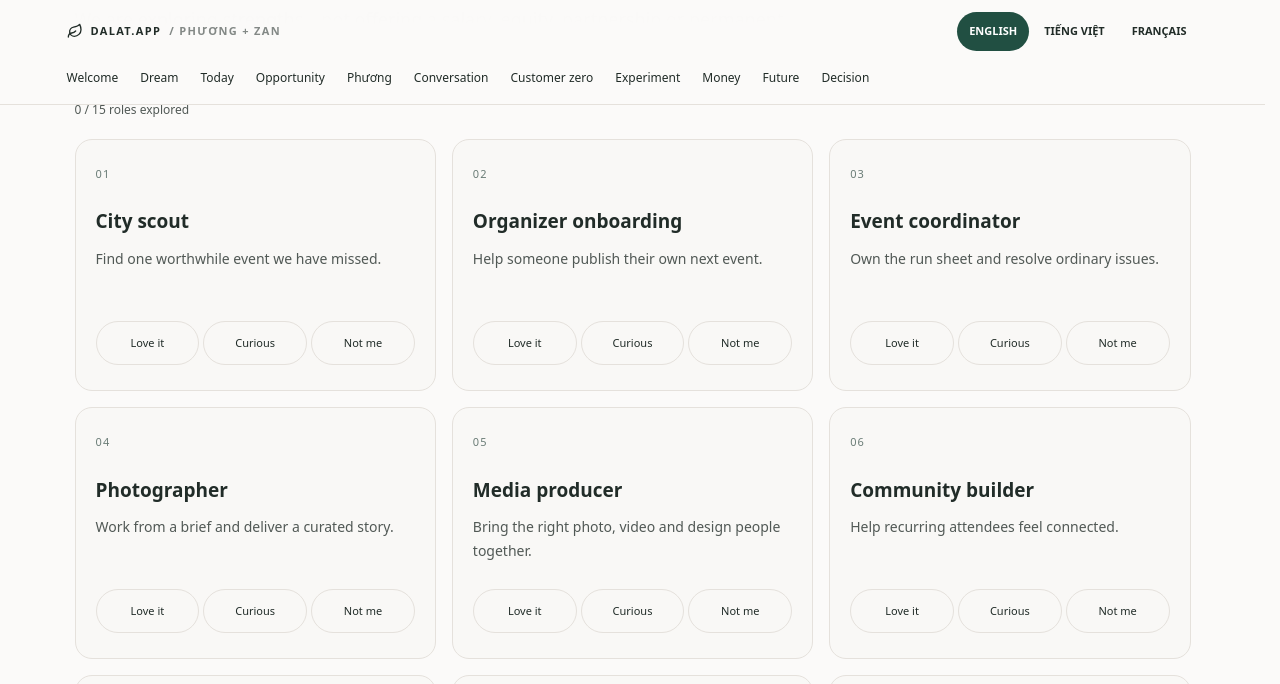
workshop interactions › saves role and field changes, then confirms reset
This screenshot has width=1280, height=684.
(page scrolled)
Click the button "Love it" below "City scout".
click(147, 343)  # box top-left (96, 321), bottom-right (199, 365)
(page scrolled)
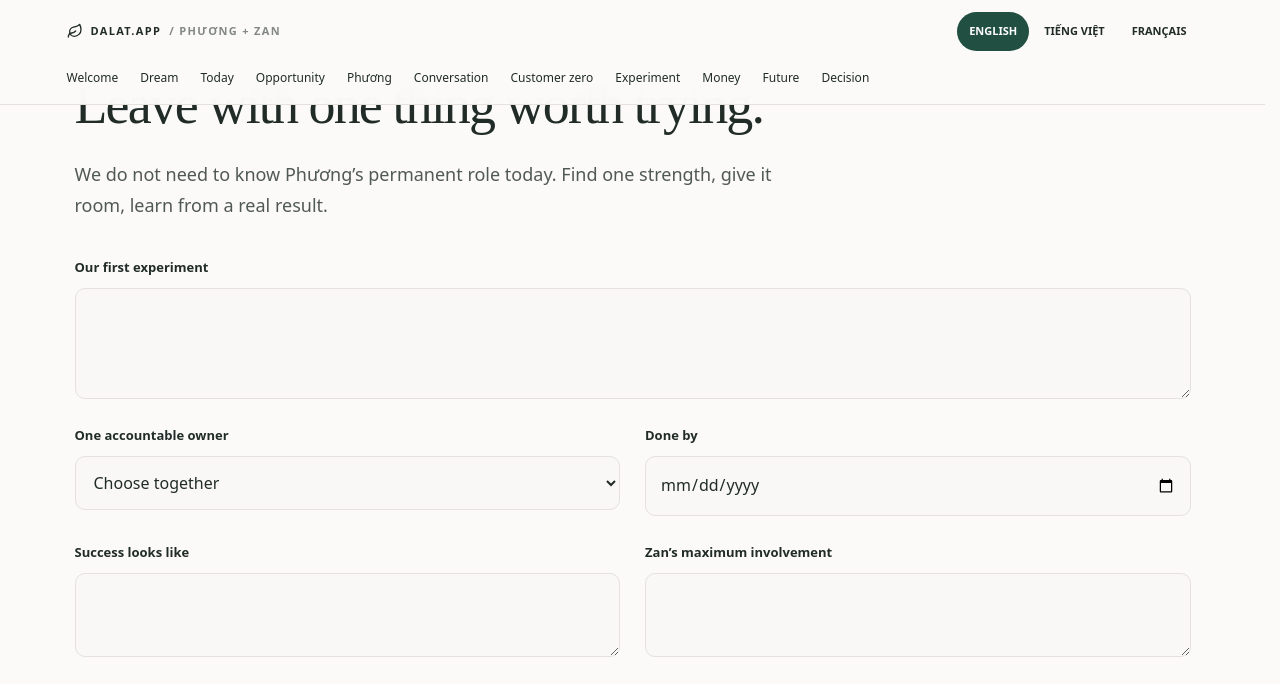
Type "Three conversations" into the text box labelled "Our first experiment".
click(632, 344); type("Three conversations")  # box top-left (74, 288), bottom-right (1190, 399)
(page scrolled)
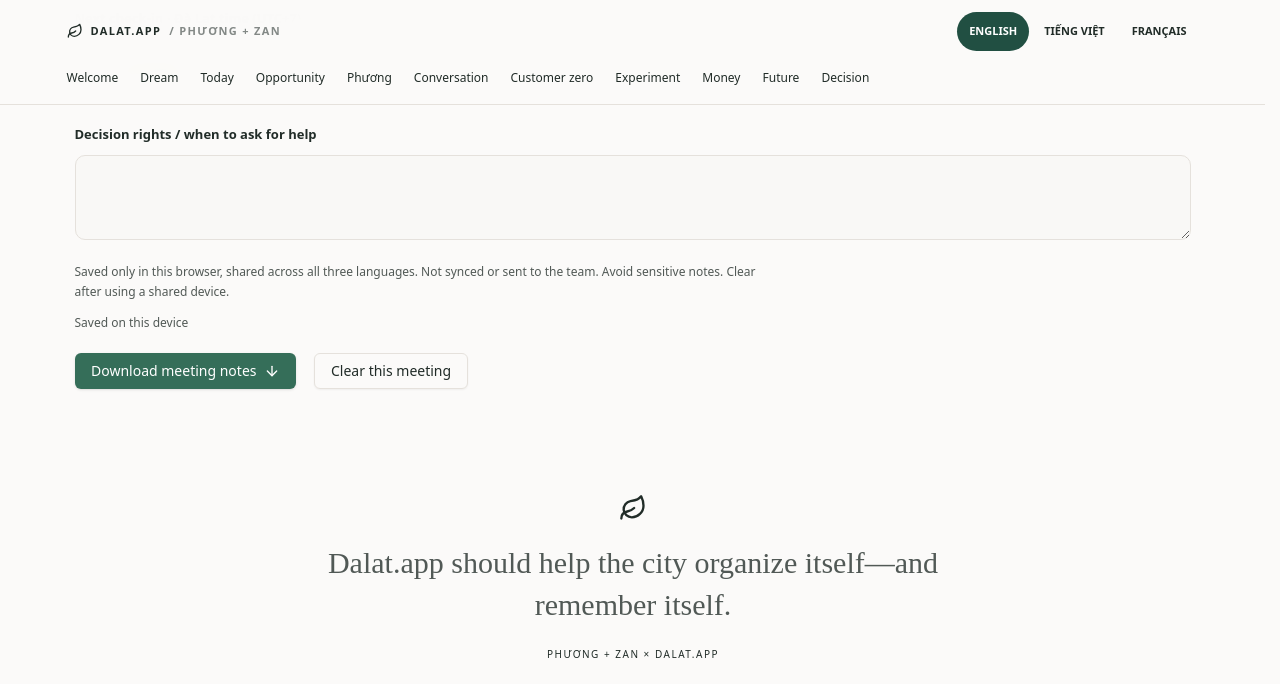
Click the button "Clear this meeting".
click(391, 371)  # box top-left (314, 353), bottom-right (468, 389)
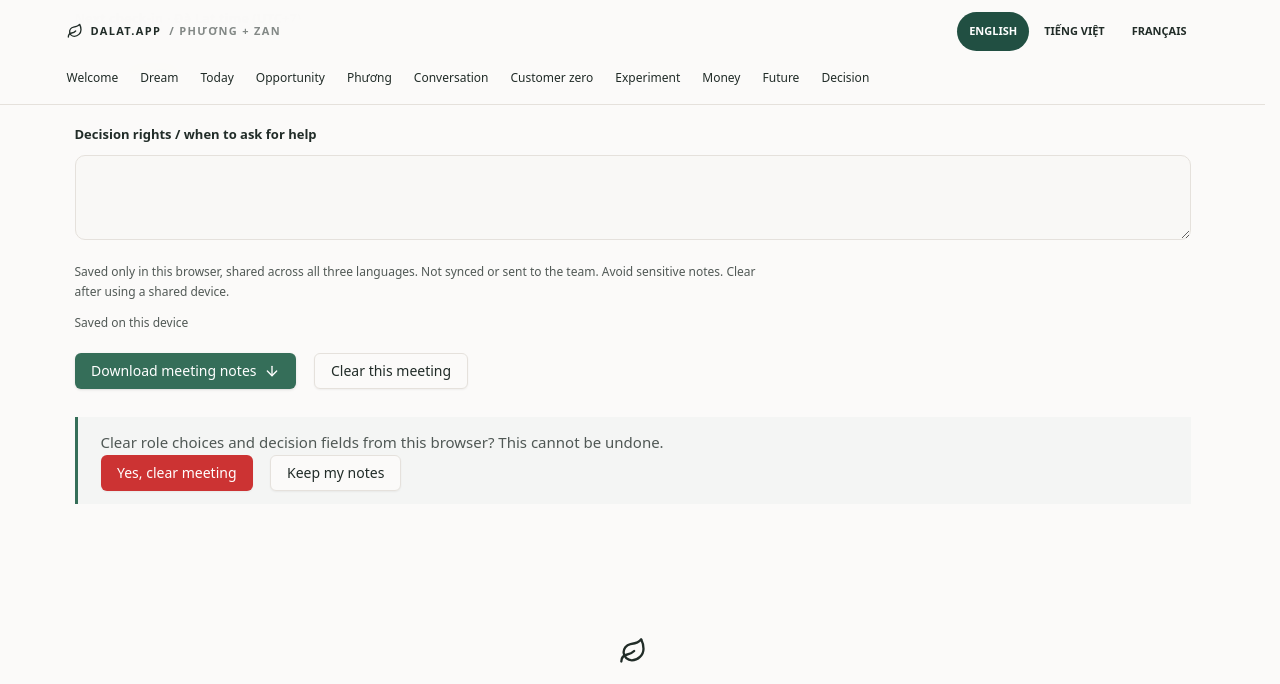
Click the button "Yes, clear meeting".
click(176, 473)  # box top-left (100, 455), bottom-right (252, 491)
(page scrolled)
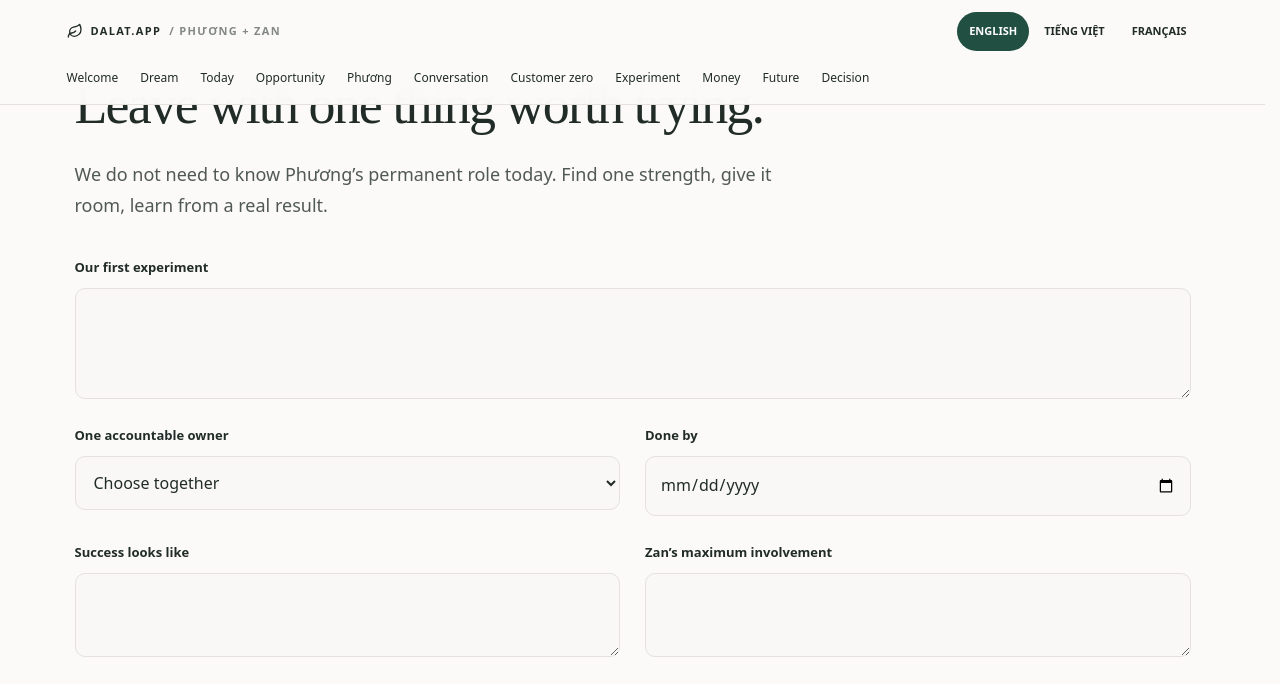
Check: the text box labelled "Our first experiment" is empty, box top-left (74, 288), bottom-right (1190, 399)
